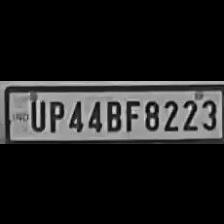2: (178, 96, 198, 130), (160, 96, 178, 132)
3: (199, 94, 217, 130)
4: (84, 96, 102, 132), (66, 97, 84, 131)
8: (141, 96, 159, 130)
B: (102, 96, 122, 130)
F: (122, 96, 140, 132)
P: (46, 96, 64, 132)
U: (27, 97, 45, 131)
